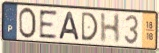3: (122, 14, 140, 46)
A: (57, 10, 81, 41)
D: (80, 12, 99, 43)
E: (38, 9, 59, 40)
H: (99, 12, 122, 45)
O: (18, 7, 38, 40)
